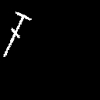double_crochet: (4, 12, 30, 56)
